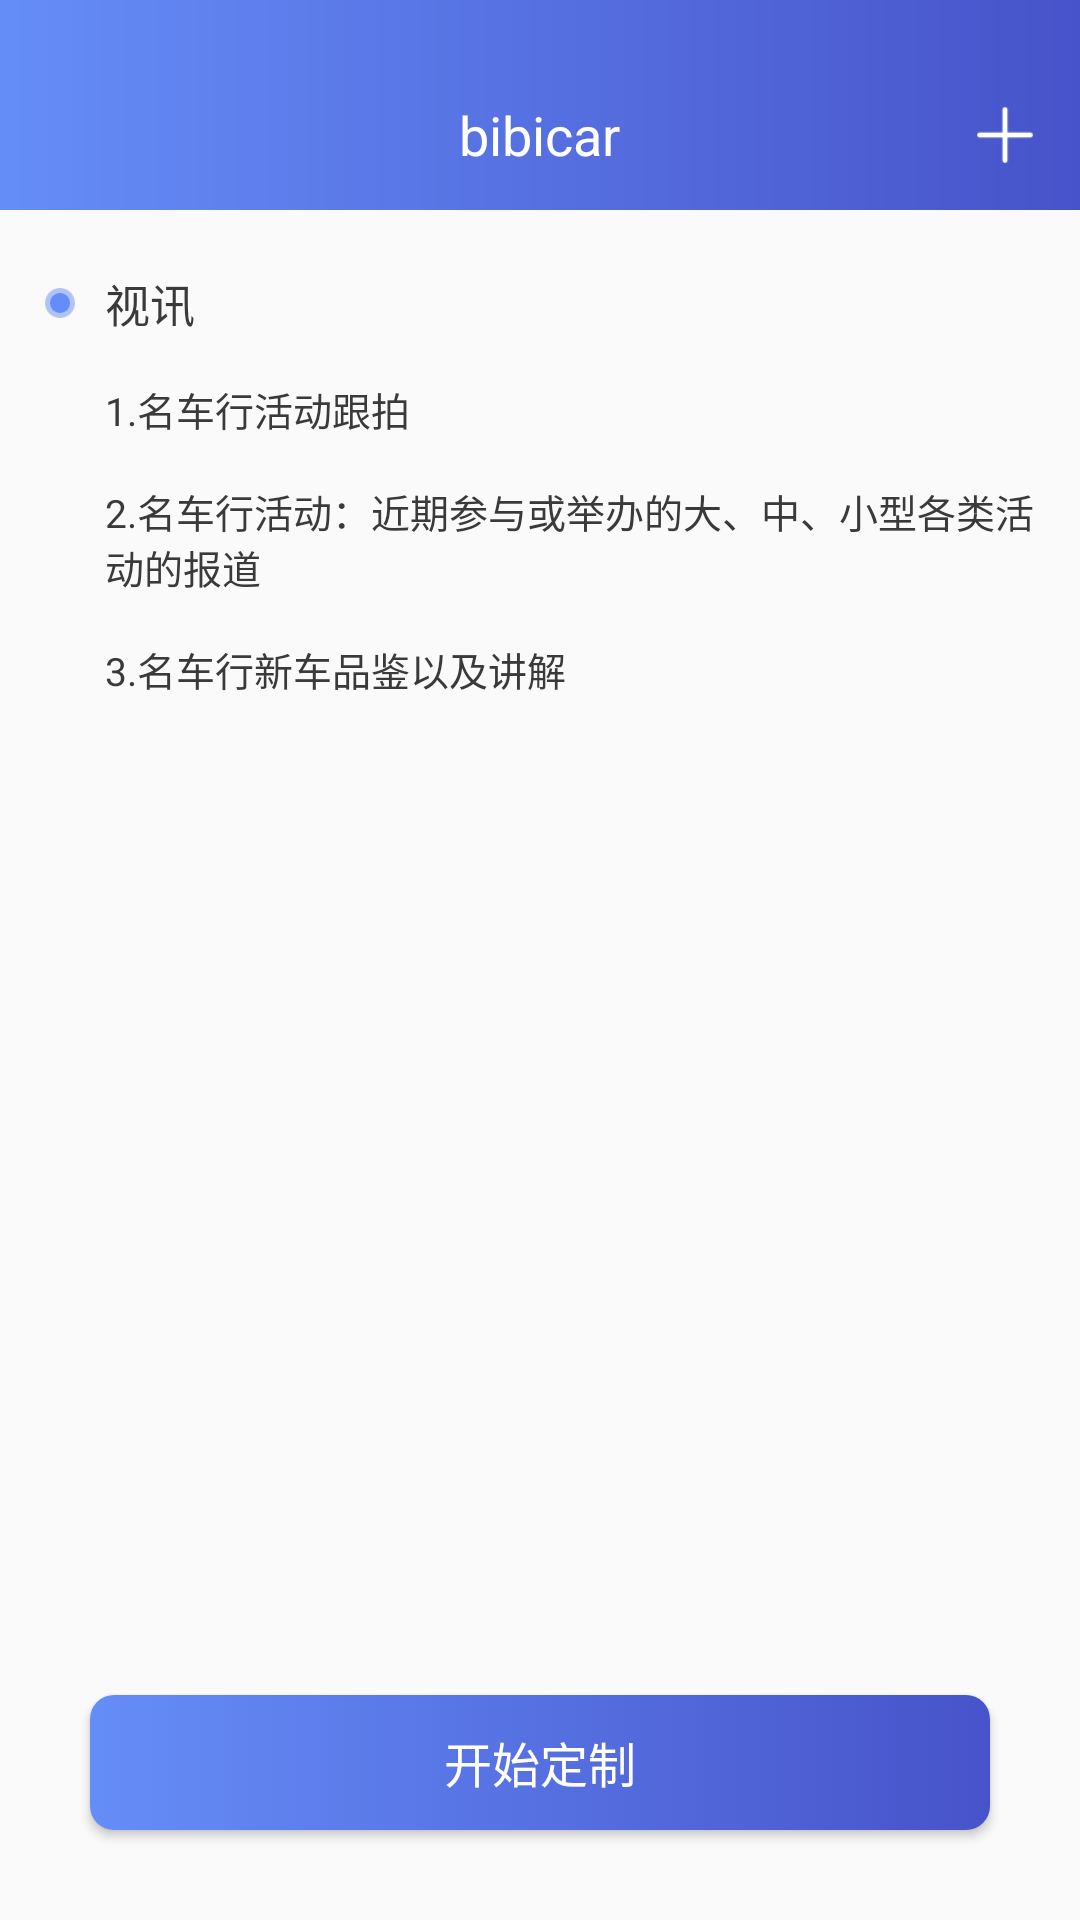

Point at icon controls on the screen. Image size 1080×1920, points as (x,y).
title bar add: (1005,135)
